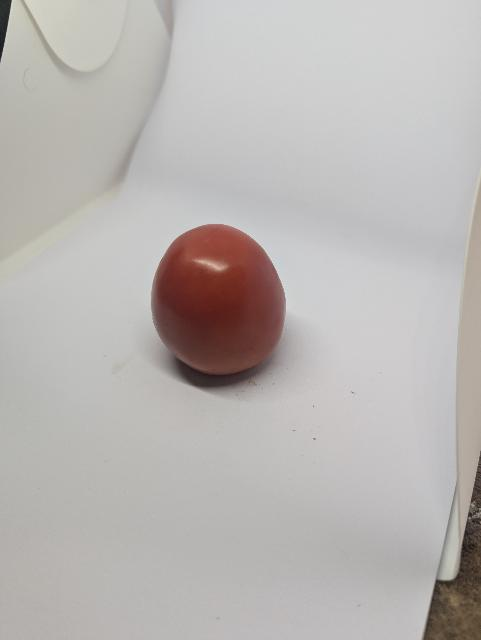red: (140, 214, 293, 399)
